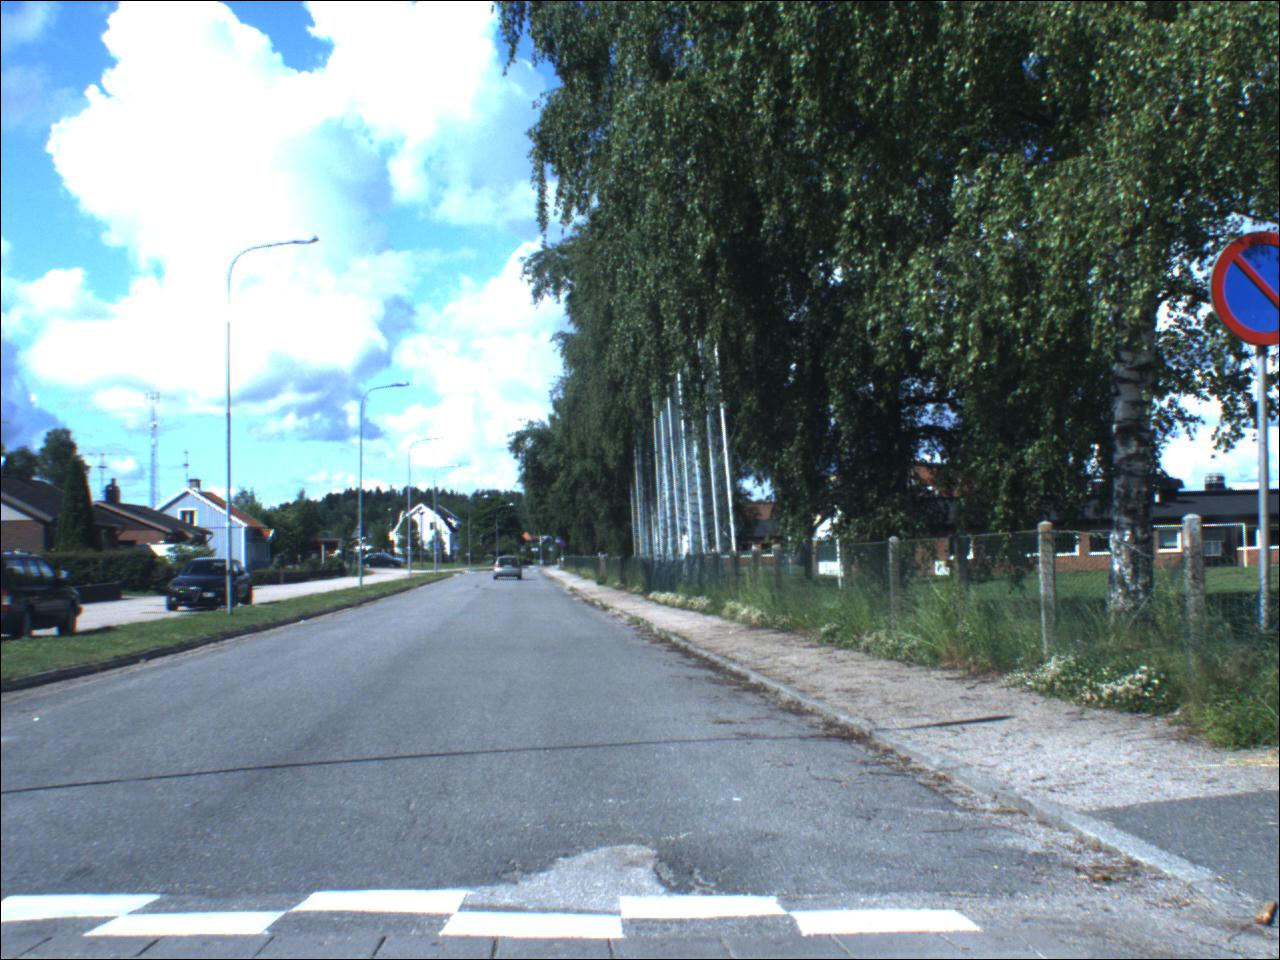NO_PARKING: (1210, 221, 1280, 353)
